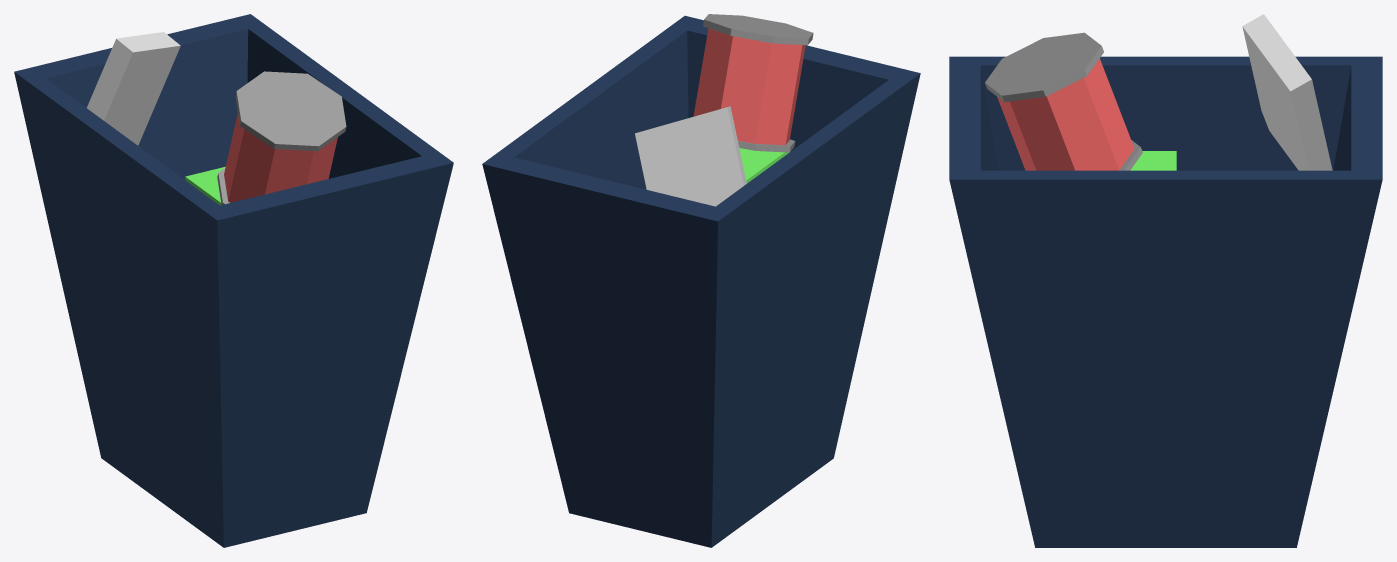
Rendered from Bin 1.fbx.
3 views of the same model, side by side, from view 1: azimuth 30°, elevation 25°; view 2: azimuth 150°, elevation 25°; view 3: azimuth 270°, elevation 25° (orthographic). The views are drawn at different scales.
Parts seen in each view (by area): view 1: Bin; view 2: Bin; view 3: Bin.
Boxes of the visible parts, <box> form: Bin: <box>14,14,453,547</box>; Bin: <box>482,14,920,547</box>; Bin: <box>949,14,1382,547</box>.
Bounding box in the file's own units: 35.56 × 62.66 × 52.91.
